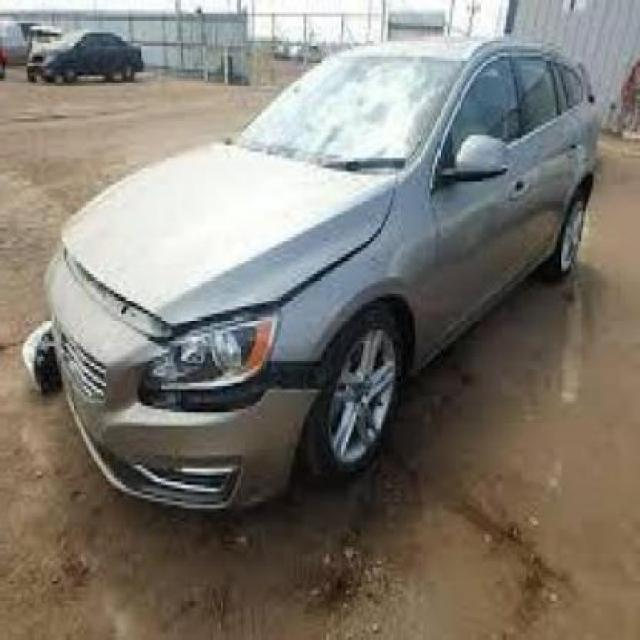damage: (62, 222, 379, 430)
